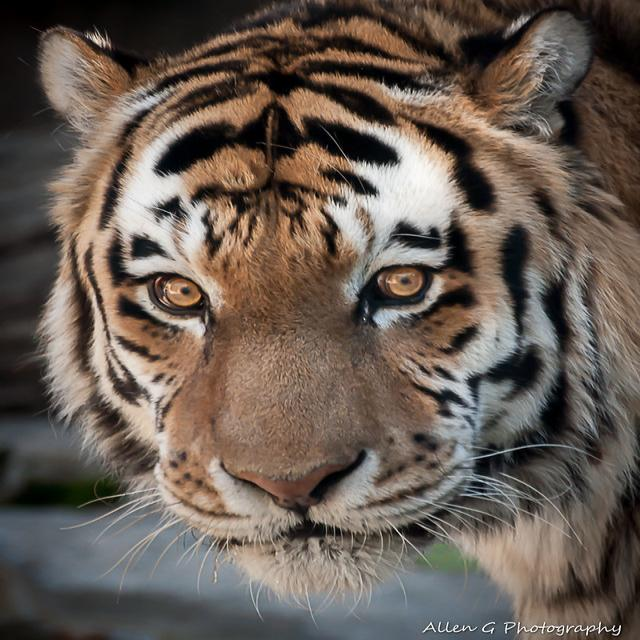Tiger: (17, 1, 633, 606)
